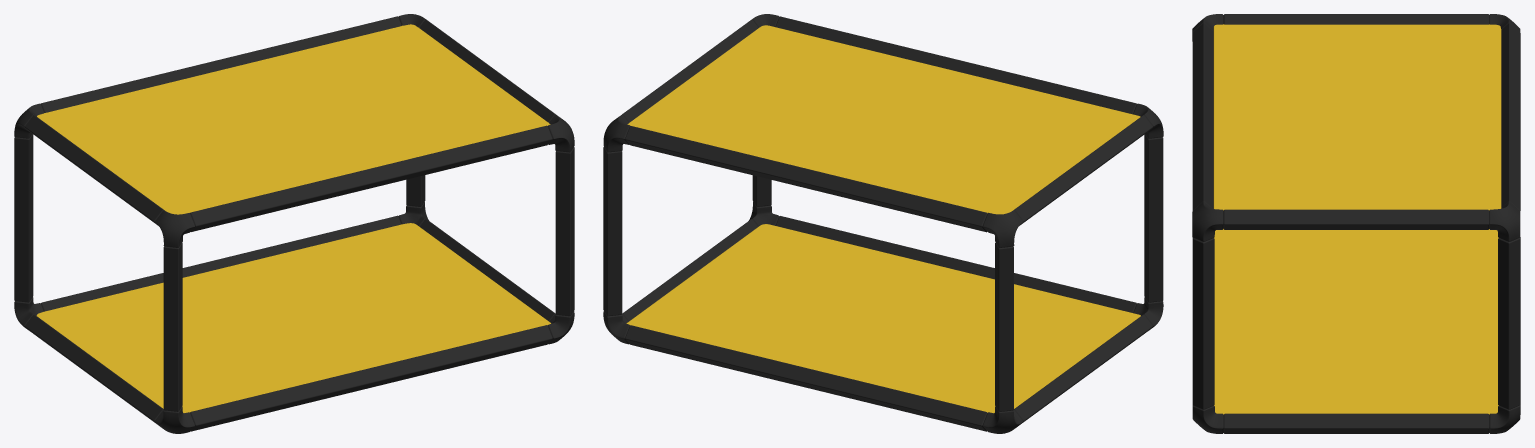
3 renders of one model, left to right at view 1: azimuth 30°, elevation 25°; view 2: azimuth 150°, elevation 25°; view 3: azimuth 270°, elevation 25°, orthographic. The views are drawn at different scales.
Parts seen in each view (by area): view 1: 523x329x229; view 2: 523x329x229; view 3: 523x329x229.
Boxes of the visible parts, x1,y1,x2,y2 form: 523x329x229: (14, 14, 574, 433); 523x329x229: (603, 14, 1163, 433); 523x329x229: (1192, 14, 1520, 433).
Bounding box in the file's own units: 0.6007 × 0.3066 × 0.4063.
